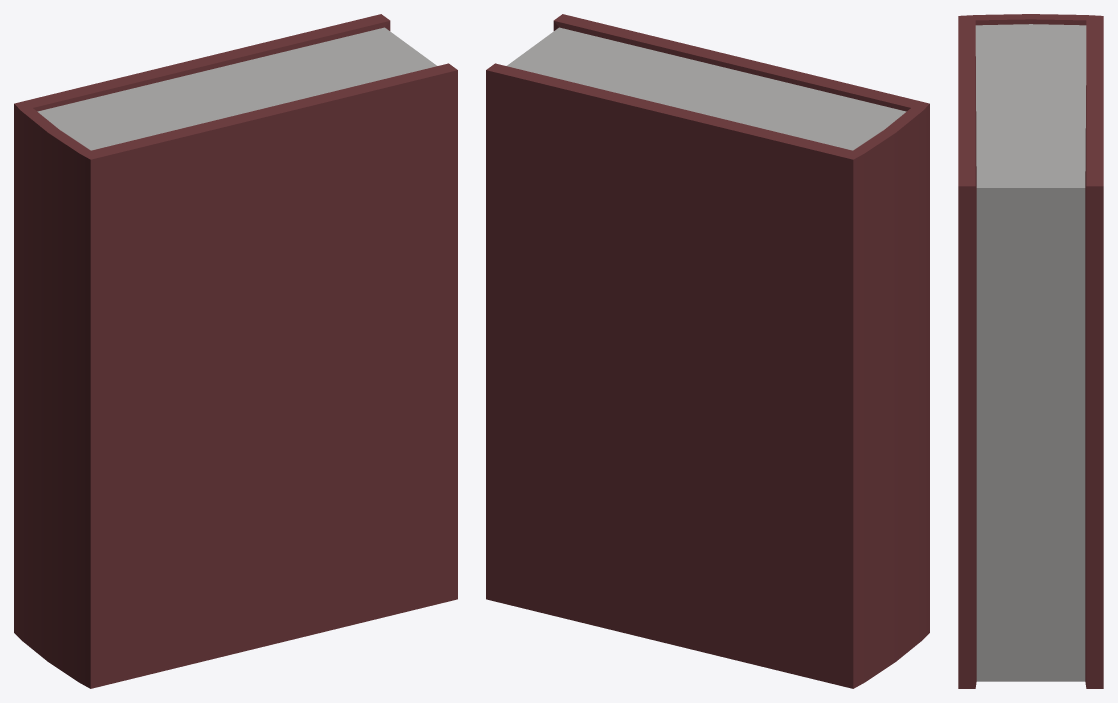
The model's file is book_01.fbx.
The picture shows the model from 3 angles, left to right: view 1: azimuth 30°, elevation 25°; view 2: azimuth 150°, elevation 25°; view 3: azimuth 270°, elevation 25°; orthographic projection. The views are drawn at different scales.
Parts seen in each view (by area): view 1: pCube1; view 2: pCube1; view 3: pCube1.
Boxes of the visible parts, left/top/right/bottom form: pCube1: left=14, top=14, right=457, bottom=688; pCube1: left=486, top=14, right=929, bottom=688; pCube1: left=958, top=14, right=1103, bottom=688.
Size of the model in its own units: 2.62 by 3.56 by 0.9345.
